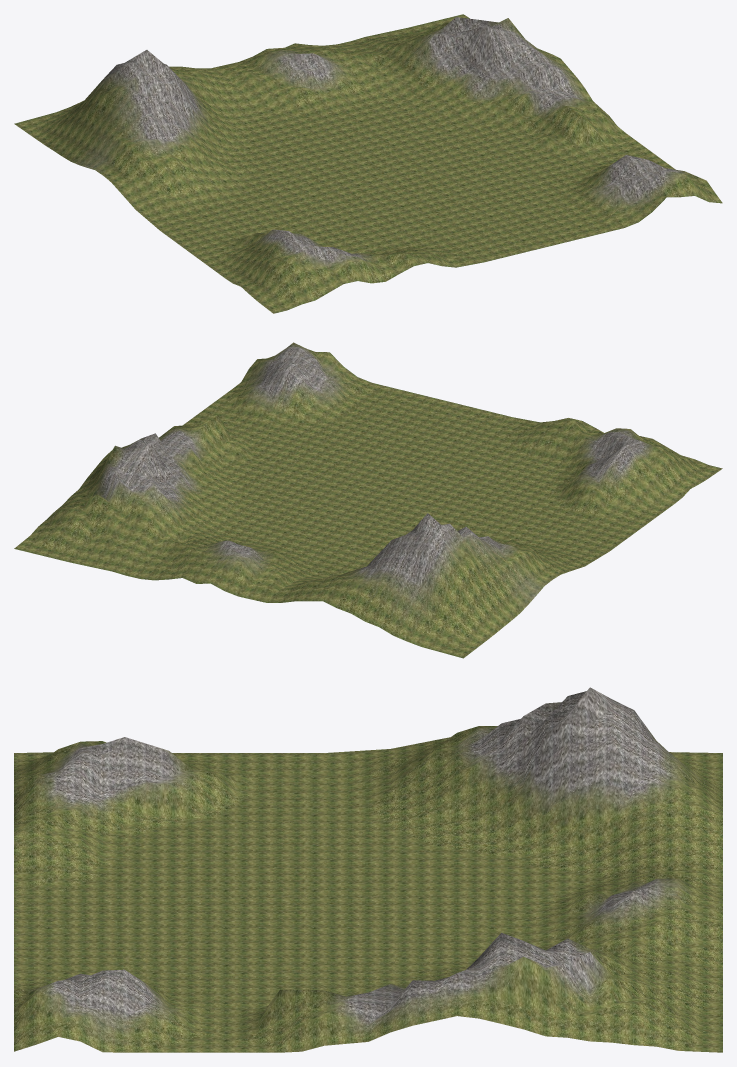
3 views of the same model, one above another, from view 1: azimuth 30°, elevation 25°; view 2: azimuth 150°, elevation 25°; view 3: azimuth 270°, elevation 25° (orthographic). The views are drawn at different scales.
Visible parts, largest first — view 1: Mesh; view 2: Mesh; view 3: Mesh.
Boxes of the visible parts, x1,y1,x2,y2 form: Mesh: [14, 14, 722, 313]; Mesh: [14, 342, 722, 658]; Mesh: [14, 687, 722, 1052].
Size of the model in its own units: 500 by 94.95 by 500.
Materials: 1 (1 with a texture image).
